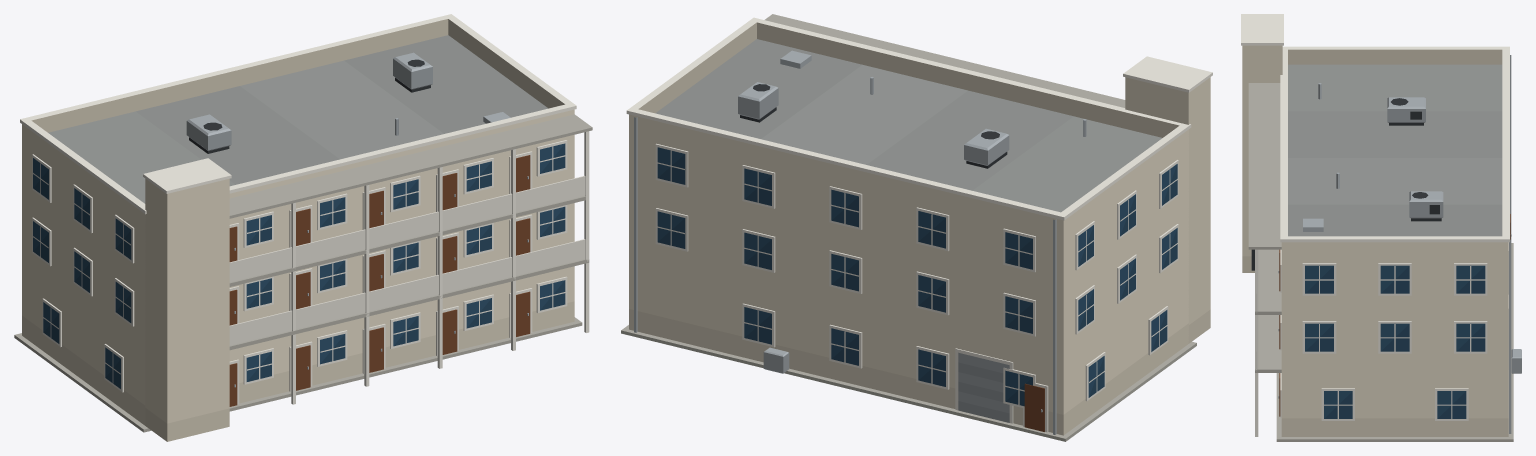
File: lodge_22x11_3f.glb
The picture shows the model from 3 angles, left to right: view 1: azimuth 30°, elevation 25°; view 2: azimuth 150°, elevation 25°; view 3: azimuth 270°, elevation 25°; orthographic projection. The views are drawn at different scales.
Parts seen in each view (by area): view 1: block; view 2: block; view 3: block.
Boxes of the visible parts, x1,y1,x2,y2 form: block: [14, 14, 592, 441]; block: [621, 14, 1212, 441]; block: [1241, 14, 1521, 441].
Size of the model in its own units: 22.5 by 12.49 by 13.62.
